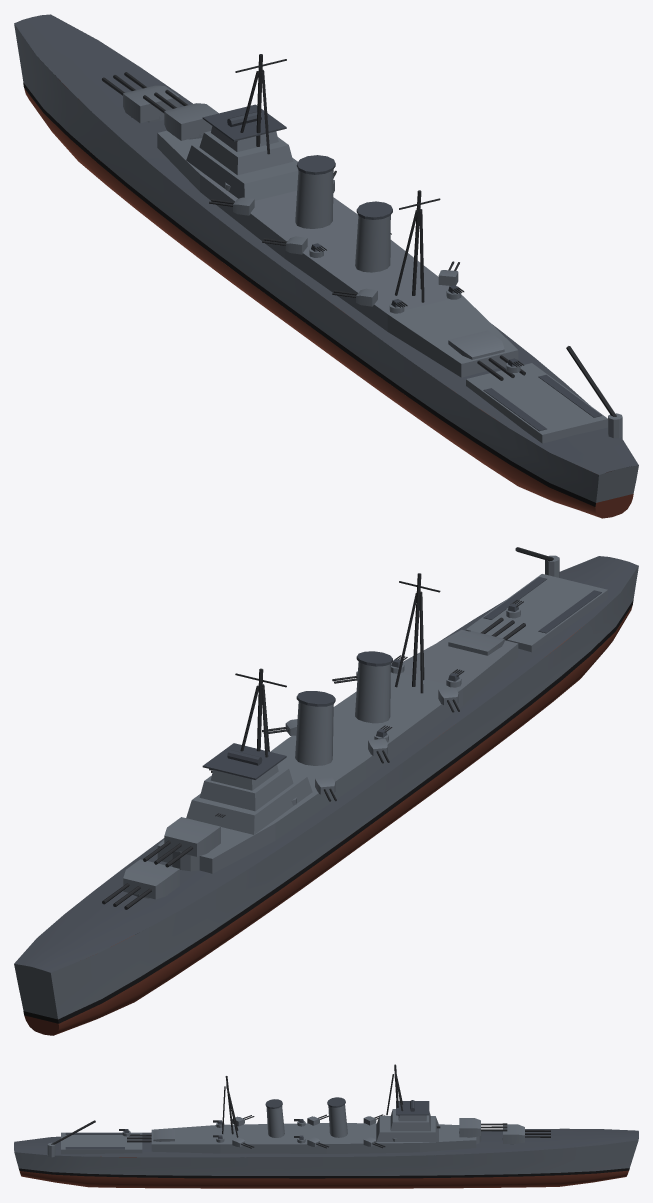
File: cruiser_usn.glb
3 views of the same model, one above another, from view 1: azimuth 30°, elevation 25°; view 2: azimuth 150°, elevation 25°; view 3: azimuth 270°, elevation 25° (orthographic). The views are drawn at different scales.
Parts seen in each view (by area): view 1: cruiser_usn; view 2: cruiser_usn; view 3: cruiser_usn.
Part boxes in pixels (x1,y1,x2,y2): cruiser_usn: (14,14,638,518); cruiser_usn: (14,547,638,1035); cruiser_usn: (14,1064,638,1188).
Bounding box in the file's own units: 25.18 × 41.64 × 200.
